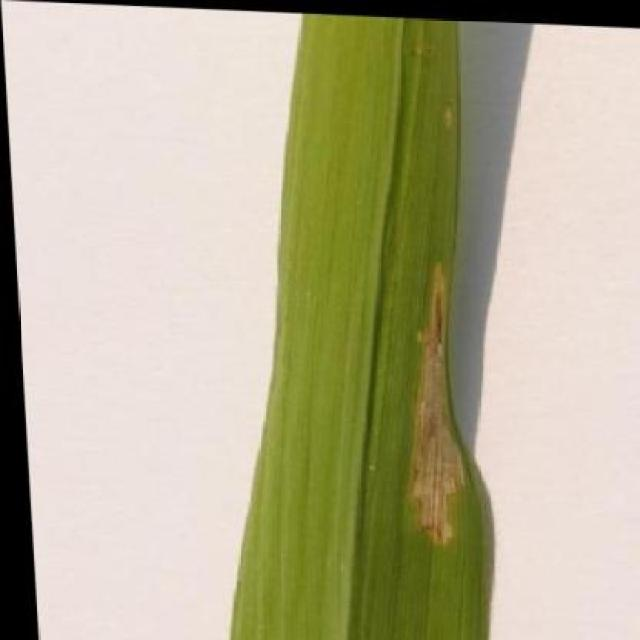Brown_Spot: (176, 6, 509, 640)
